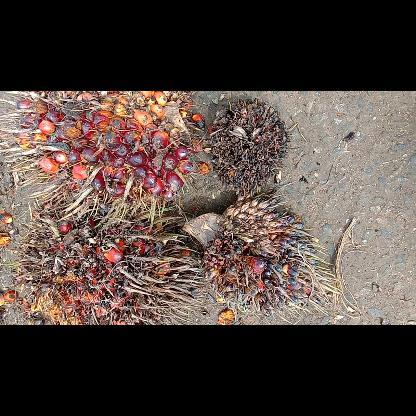TBS abnormal: (182, 194, 340, 320), (208, 96, 292, 196)
TBS masak: (13, 92, 198, 206)
Terlalu masak: (16, 200, 202, 324)
